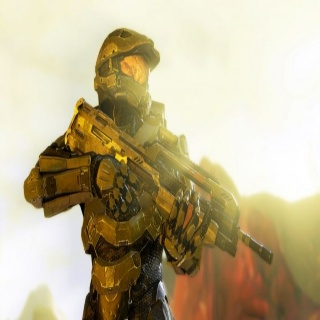rifle: (37, 95, 275, 276)
